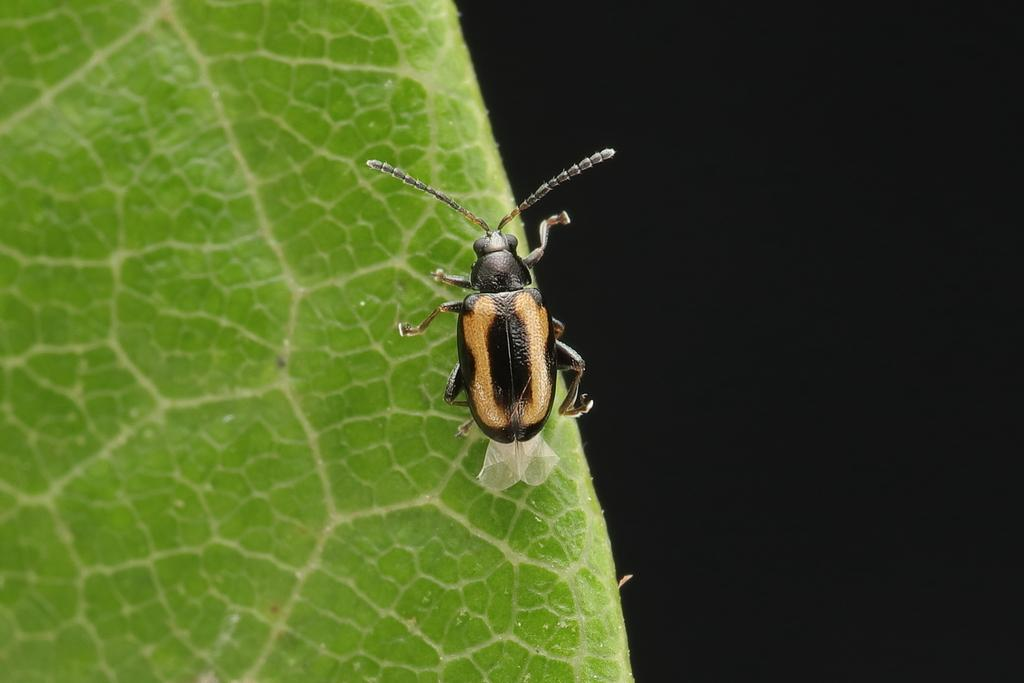flea_beetle: (331, 112, 679, 495)
